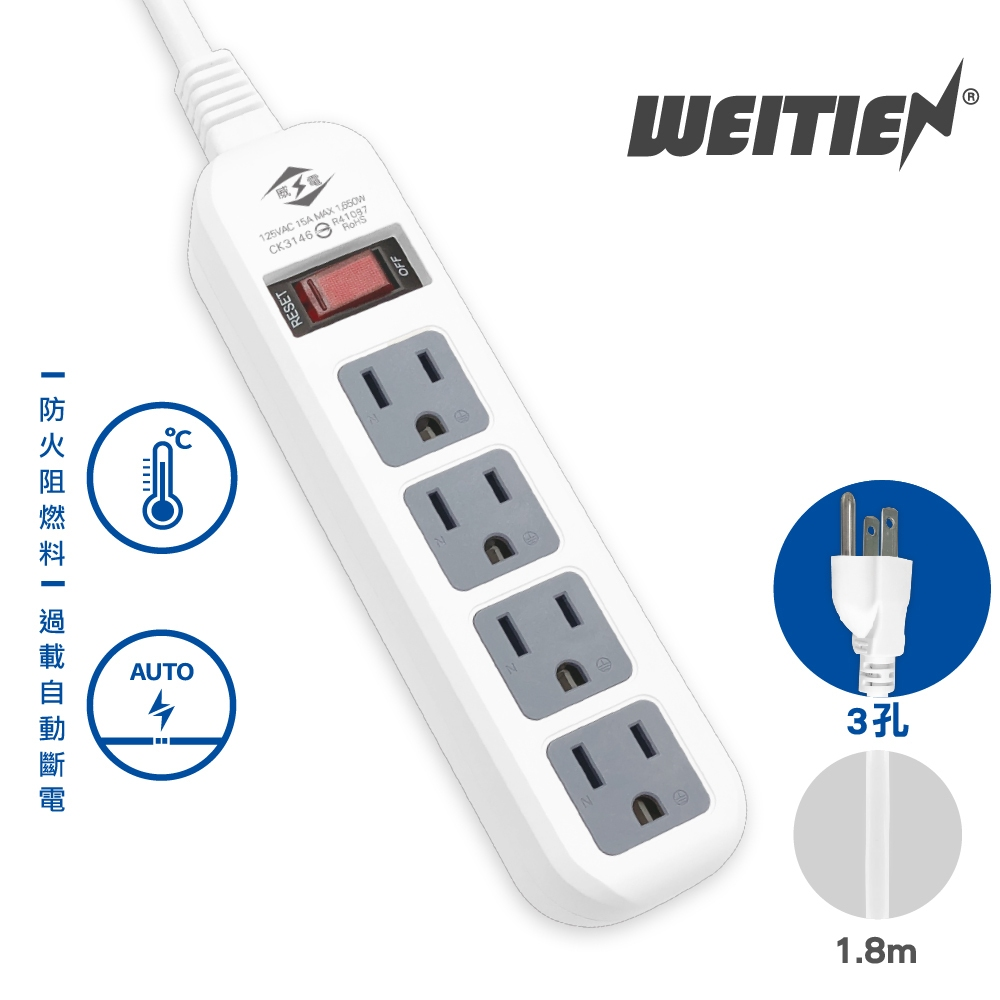socket: (172, 45, 751, 930)
